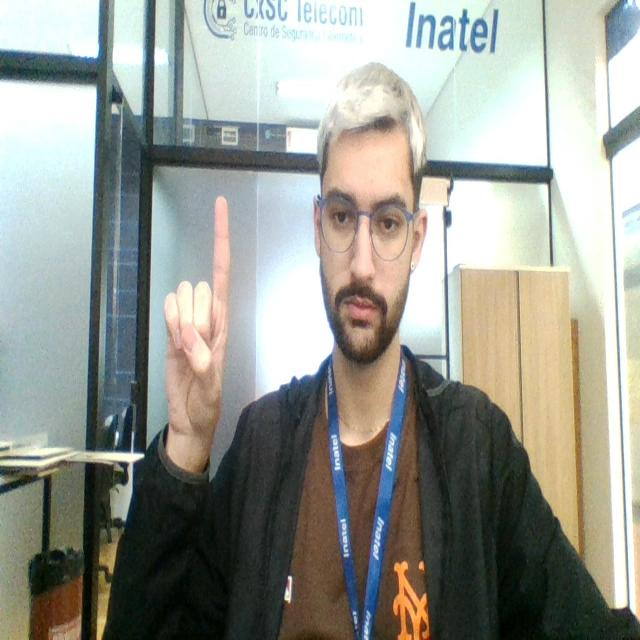D2: (155, 188, 233, 442)
